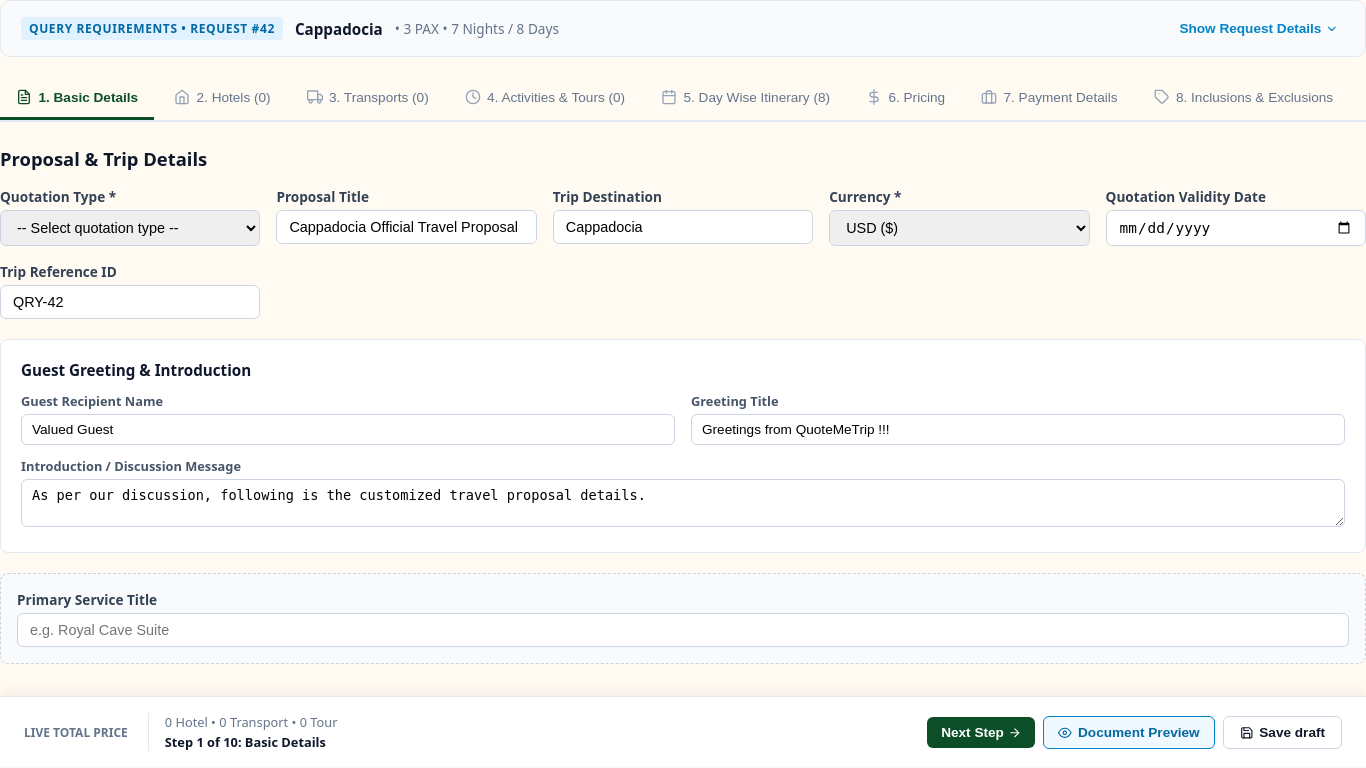
Test case: QuotationBuilder Component › displays traveller request context with expandable details
This screenshot has width=1366, height=768.
Expected: the text "QUERY REQUIREMENTS • REQUEST #42" is shown, 21,17 -> 283,40
Expected: the text "Cappadocia" is shown, 295,18 -> 383,38
# Click Show Request Details toggle
Click the button "Show Request Details" at (1259, 28), box 1173,20 -> 1345,37
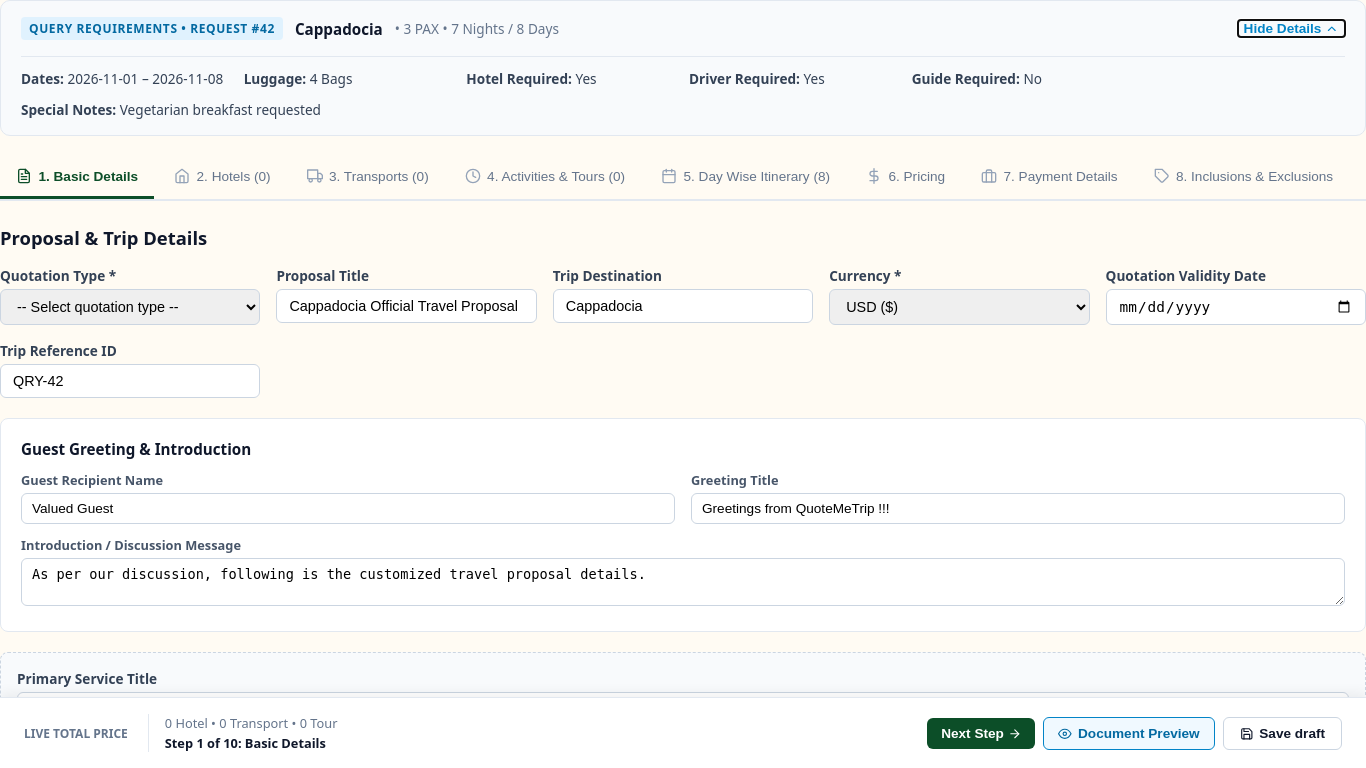
Expected: the text "Vegetarian breakfast requested" is shown, 120,100 -> 321,119
